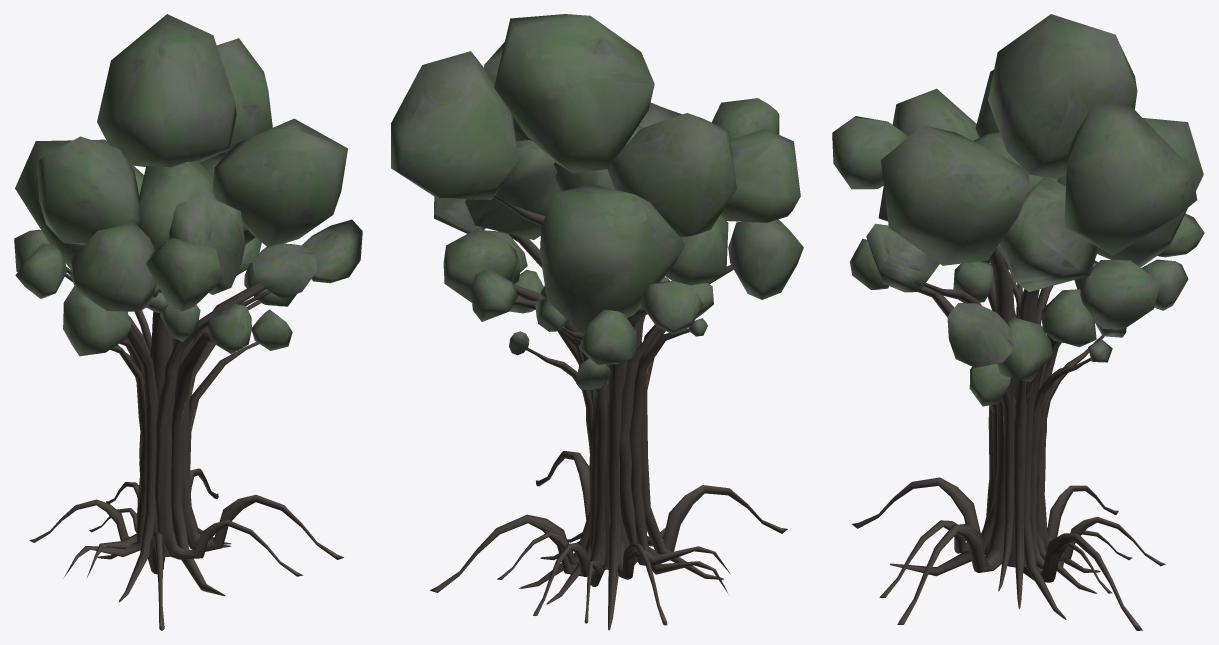
File: Dan_LargeTree.fbx
3 renders of one model, left to right at view 1: azimuth 30°, elevation 25°; view 2: azimuth 150°, elevation 25°; view 3: azimuth 270°, elevation 25°, orthographic. The views are drawn at different scales.
Visible parts, largest first — view 1: LargeTree; view 2: LargeTree; view 3: LargeTree.
Part boxes in pixels (bbox=[...]): LargeTree: bbox=[14, 14, 362, 630]; LargeTree: bbox=[391, 14, 803, 630]; LargeTree: bbox=[832, 14, 1204, 630].
Bounding box in the file's own units: 19.98 × 32.36 × 18.87.
Materials: 2 (2 with a texture image).
